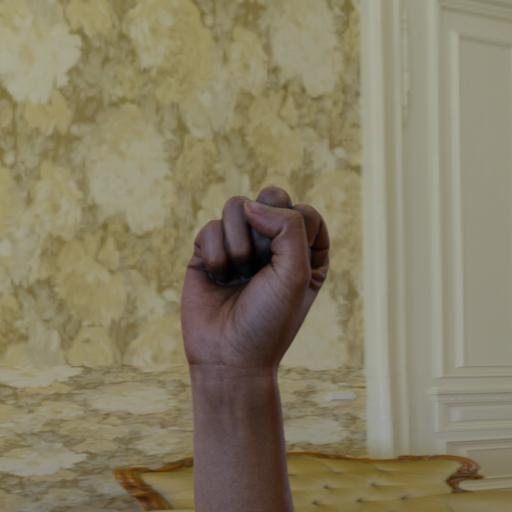S: (152, 161, 352, 482)
